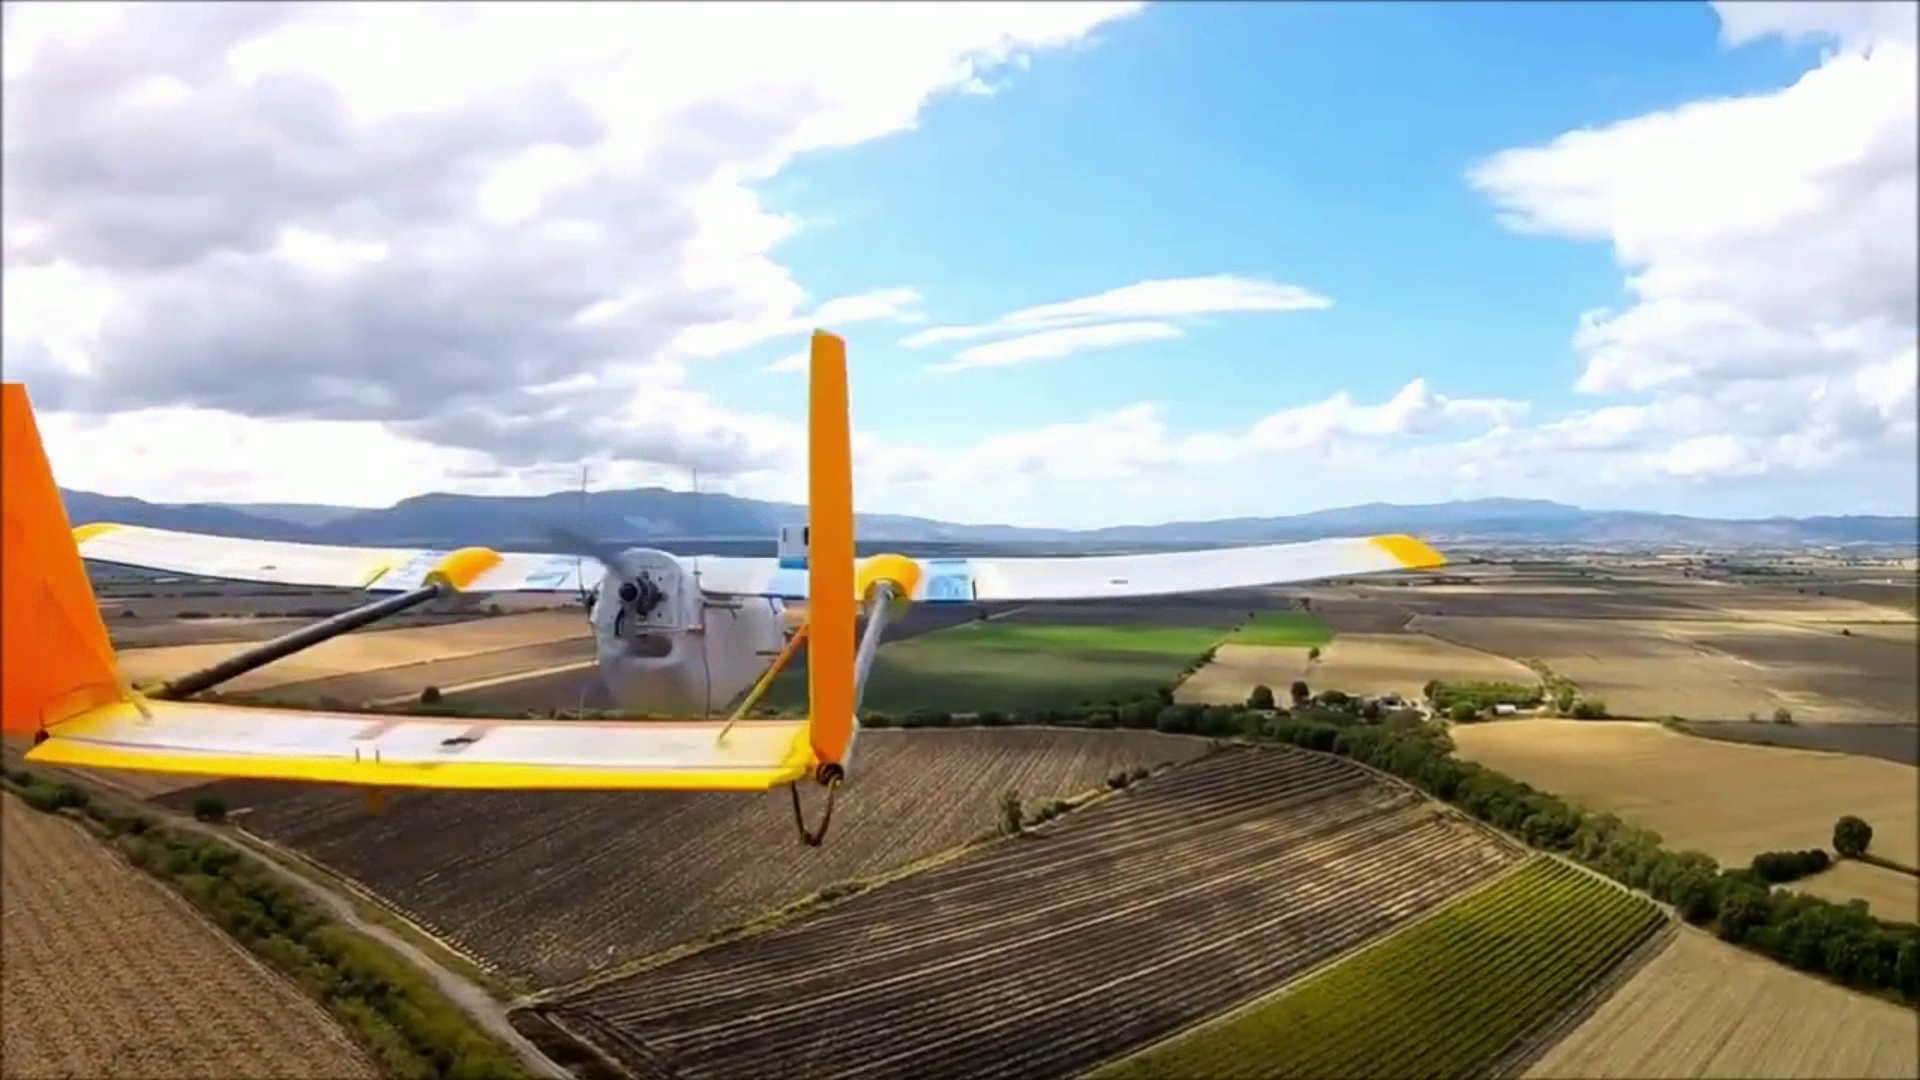airplane: (12, 334, 1468, 804)
